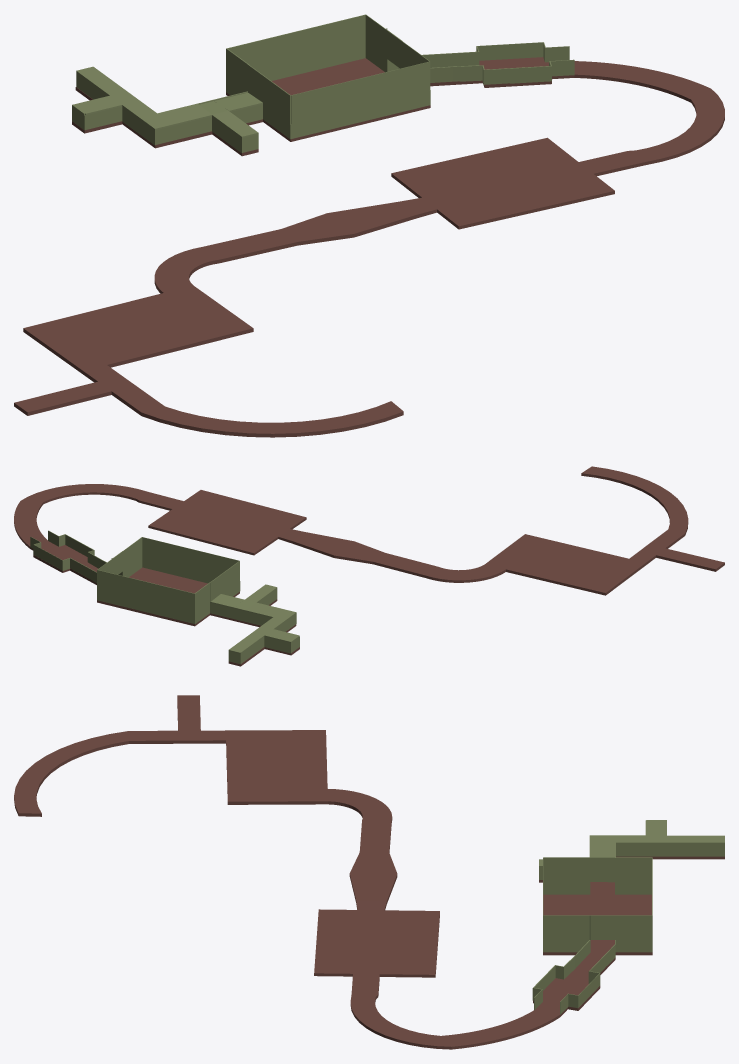
File: location.fbx
3 renders of one model, top to bottom at view 1: azimuth 30°, elevation 25°; view 2: azimuth 150°, elevation 25°; view 3: azimuth 270°, elevation 25°, orthographic. The views are drawn at different scales.
Parts seen in each view (by area): view 1: Floor, wall; view 2: Floor, wall; view 3: Floor, wall.
Part boxes in pixels (x1,y1,x2,y2): Floor: [14, 57, 724, 437]; wall: [72, 14, 574, 152]; Floor: [14, 466, 724, 666]; wall: [30, 530, 299, 663]; Floor: [14, 695, 724, 1049]; wall: [532, 820, 724, 1014].
Bounding box in the file's own units: 23631 × 1289 × 20214.
